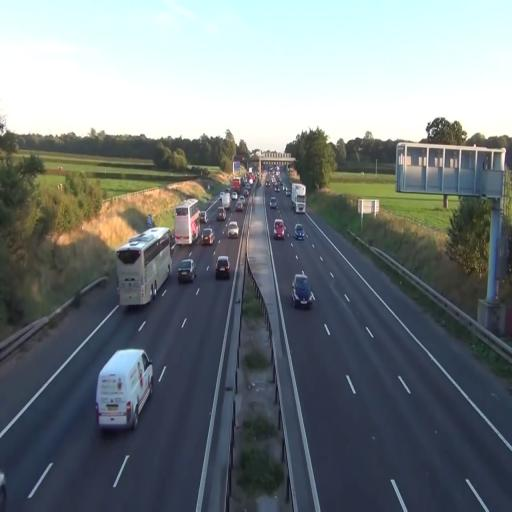vehicle: (96, 347, 154, 433), (115, 225, 174, 308), (96, 349, 153, 429), (116, 227, 171, 305), (173, 202, 206, 248), (175, 199, 200, 245), (291, 272, 315, 308), (292, 274, 313, 307), (175, 258, 195, 285), (177, 259, 196, 283), (291, 183, 306, 213), (291, 184, 305, 213), (215, 256, 231, 280), (216, 256, 230, 279), (200, 225, 215, 246), (225, 220, 240, 240), (273, 218, 286, 240), (0, 471, 7, 511), (274, 220, 285, 239), (202, 228, 214, 245), (228, 222, 239, 238), (294, 224, 305, 240), (294, 222, 304, 239), (232, 176, 242, 193), (296, 224, 306, 240), (222, 193, 231, 209), (217, 207, 226, 221), (200, 211, 208, 223), (270, 197, 277, 209), (235, 202, 243, 211), (231, 192, 238, 200), (239, 195, 245, 204), (244, 190, 249, 197), (286, 189, 291, 196), (275, 186, 280, 192), (249, 178, 253, 185), (246, 184, 250, 191), (224, 188, 229, 193), (266, 182, 270, 187)
